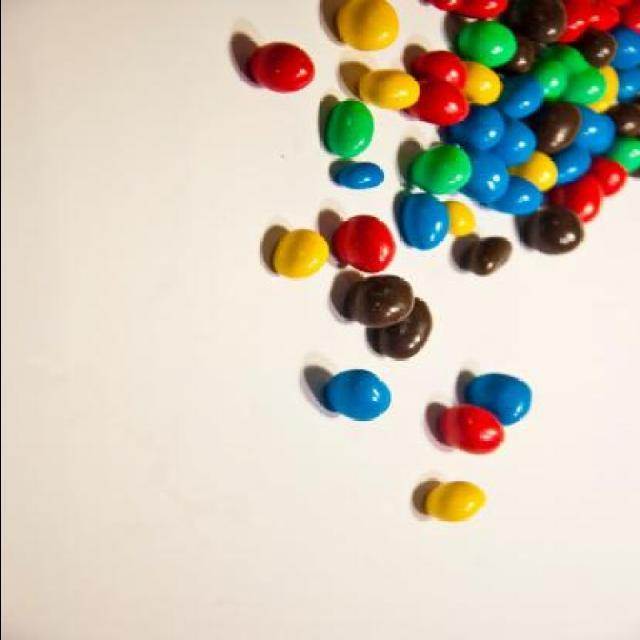Candy: (325, 0, 640, 277), (318, 369, 398, 425), (370, 296, 438, 361), (434, 402, 510, 456), (461, 374, 533, 428), (332, 214, 396, 274), (247, 41, 315, 93), (270, 226, 334, 278), (350, 275, 414, 327), (337, 0, 398, 52), (426, 481, 486, 524)
